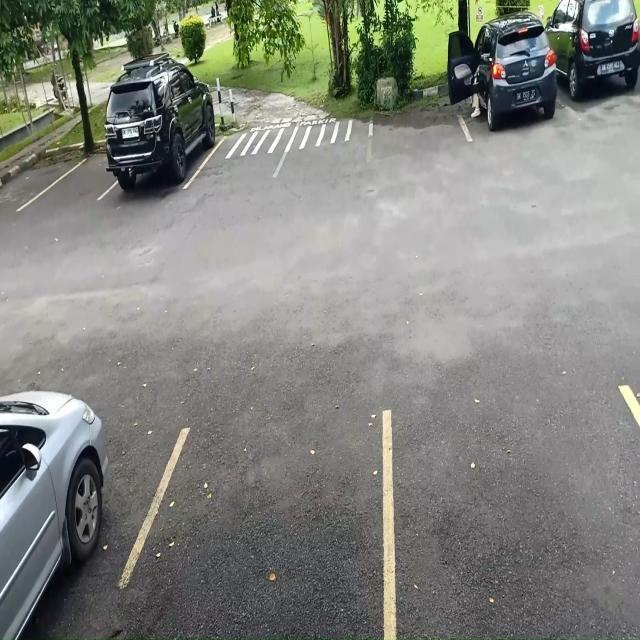empty: (387, 395, 640, 640), (137, 414, 388, 640), (45, 149, 108, 211)
occupied: (103, 75, 216, 198), (462, 27, 559, 142), (559, 0, 640, 120)
